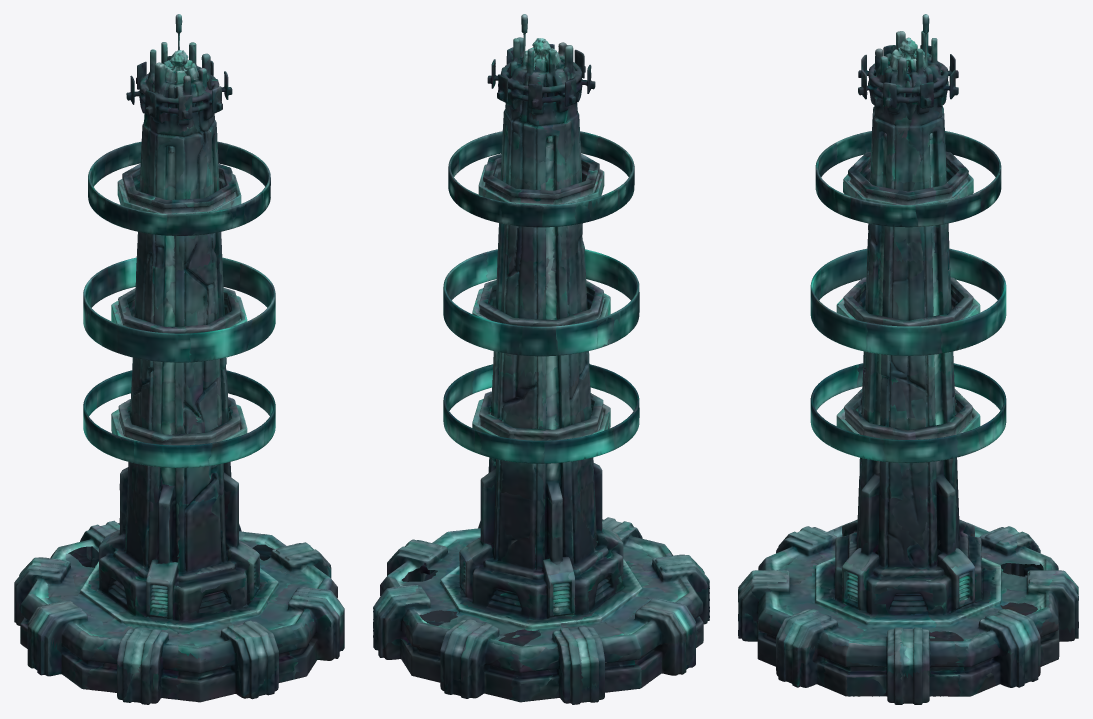
File: Meshy_AI_Cyan_Ring_Spire_0314184308_texture.glb
3 views of the same model, side by side, from view 1: azimuth 30°, elevation 25°; view 2: azimuth 150°, elevation 25°; view 3: azimuth 270°, elevation 25° (orthographic).
Bounding box in the file's own units: 0.9417 × 1.9 × 0.9417.
1 material, 1 textured.
